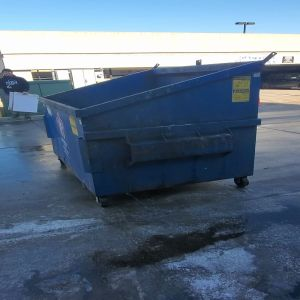Dumpster: (42, 61, 264, 211)
Person: (1, 67, 31, 92)
